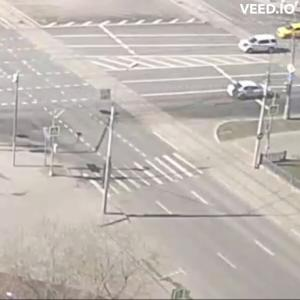car: (239, 35, 282, 55), (229, 81, 265, 102), (277, 23, 300, 41), (241, 86, 265, 101)
